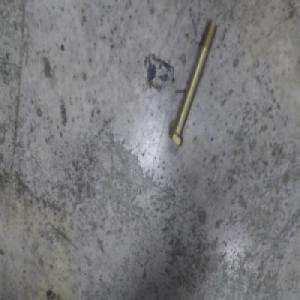Bolt: (167, 15, 216, 147)
